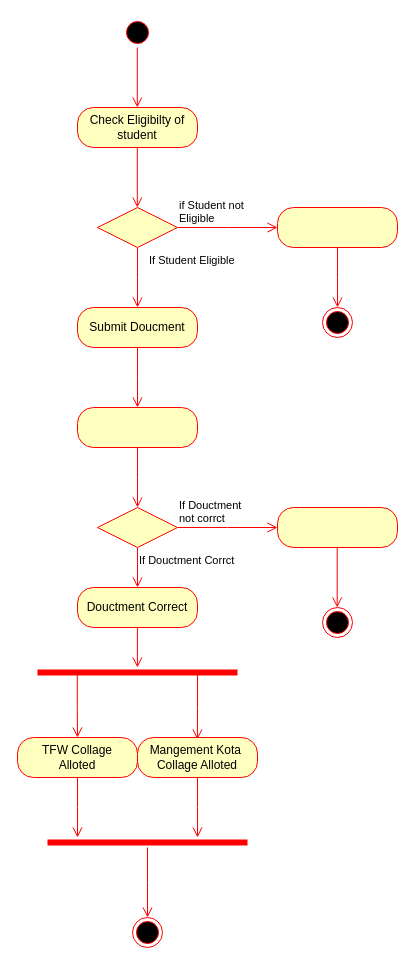
This 415x965 diagram has some shape labels left out. Each missing label, with the centre of its shape:
Alert"Douctment not Valid": point 337,527
Alert"Student are Not Eligible": point 337,227
Check Doucment: point 137,427
